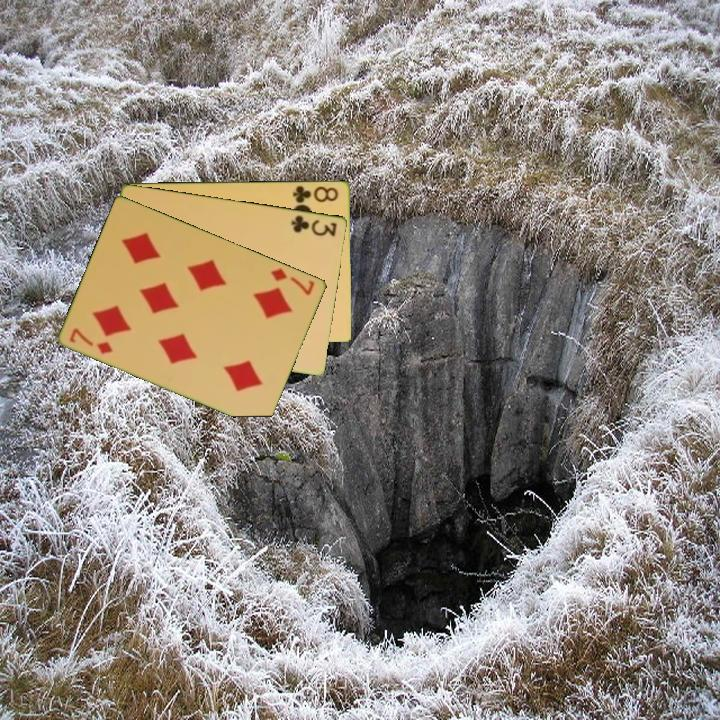3c: (288, 211, 340, 239)
7d: (267, 264, 318, 298), (66, 324, 116, 357)
8c: (289, 182, 341, 207)
